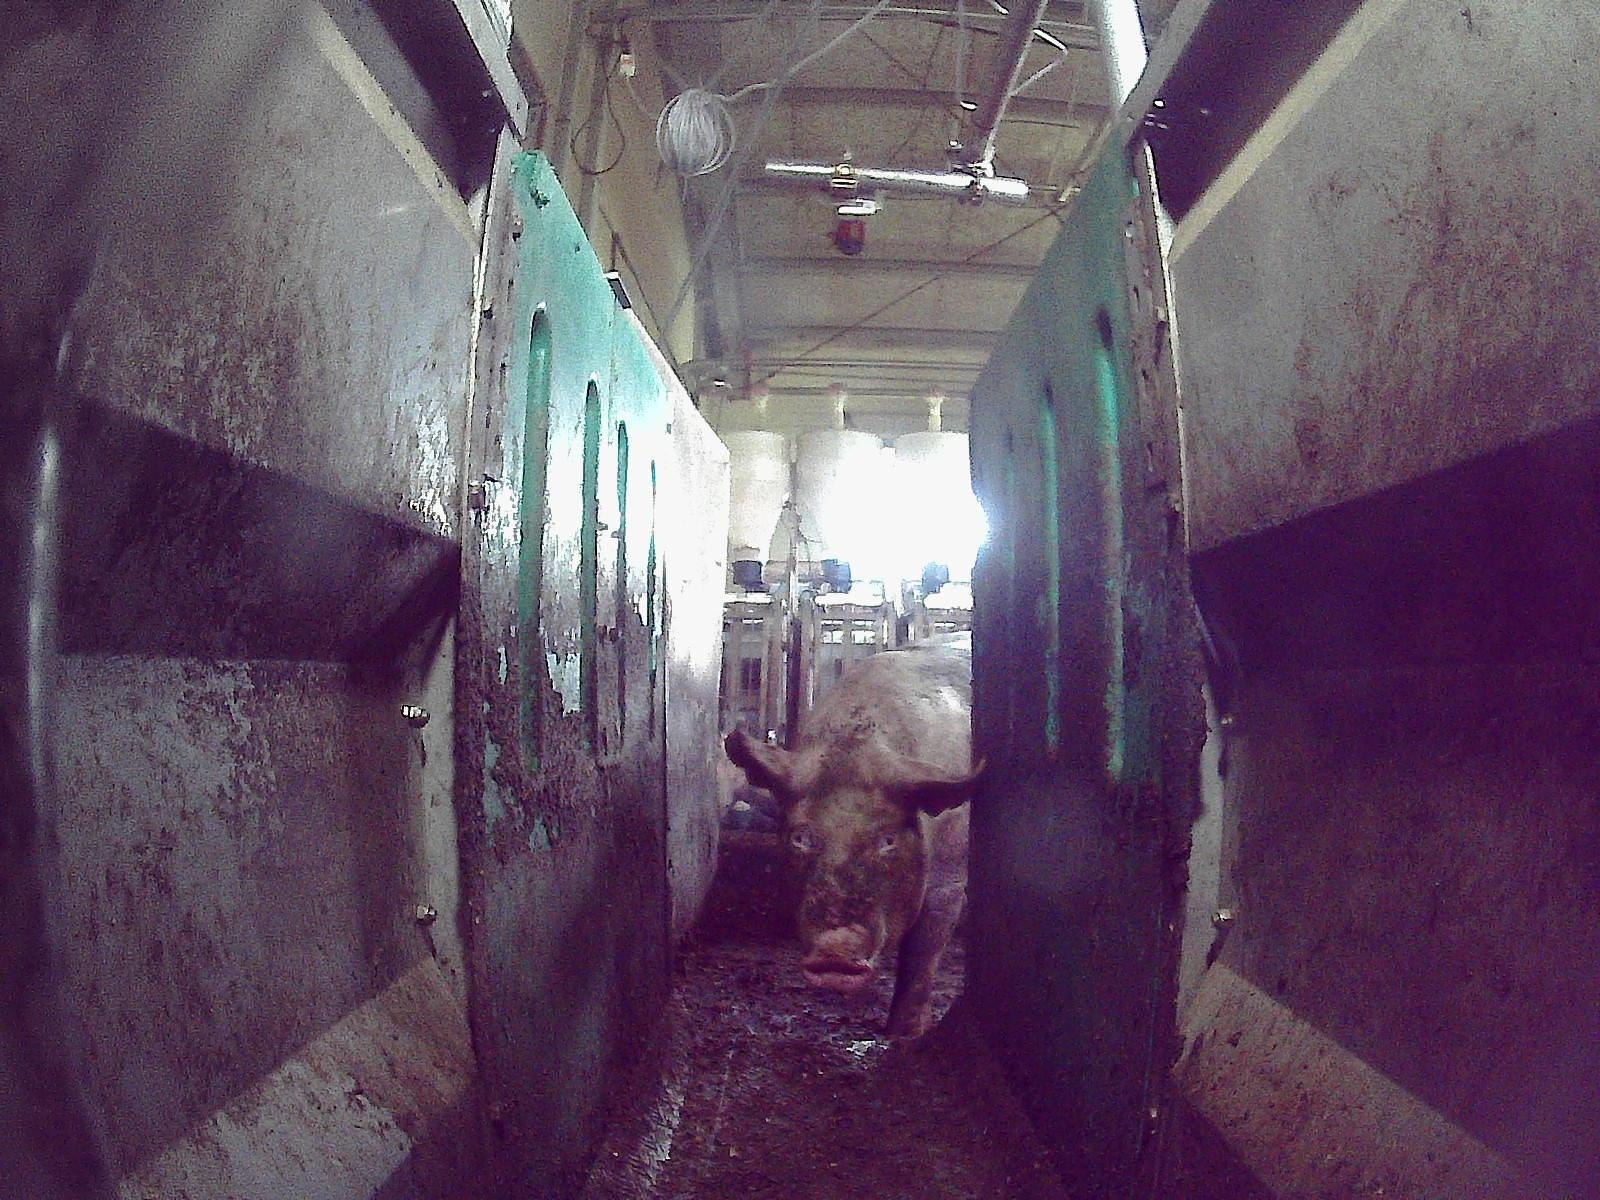Face: (773, 750, 929, 986)
